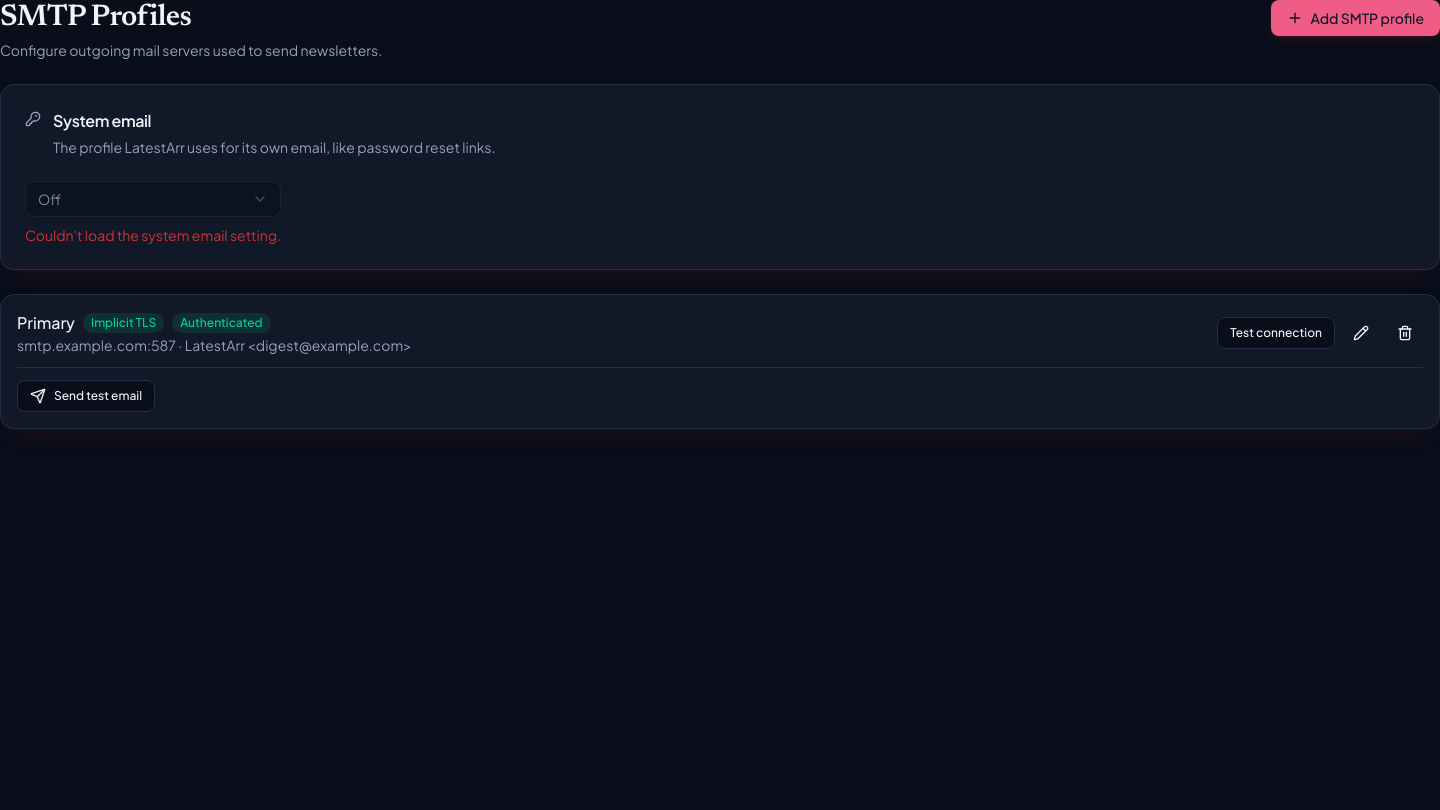
SmtpProfilesPage › edits a profile through the edit dialog, prefilled with its current values
Expected: the text "Primary" is shown, x1=17 y1=311 x2=75 y2=335
Click the button named "Edit Primary" at point(1361, 333), box x1=1343 y1=315 x2=1379 y2=351
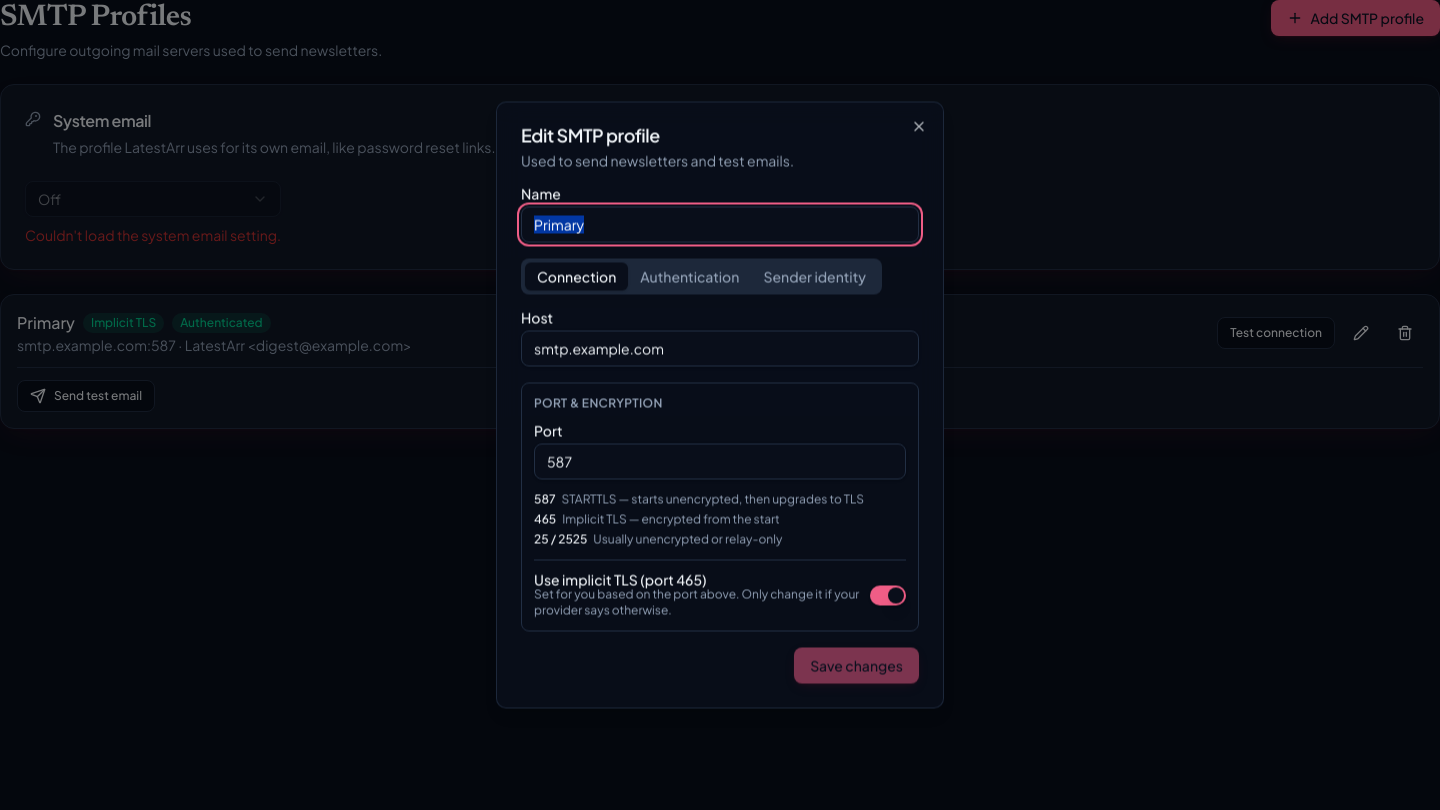
Expected: the field labelled "Name" holds "Primary", x1=521 y1=206 x2=919 y2=242
Expected: the field labelled "Host" holds "smtp.example.com", x1=521 y1=330 x2=919 y2=366
Expected: the number field labelled "Port" holds "587", x1=534 y1=444 x2=906 y2=480
Click the tab "Authentication" at point(690, 276), box x1=628 y1=262 x2=751 y2=290
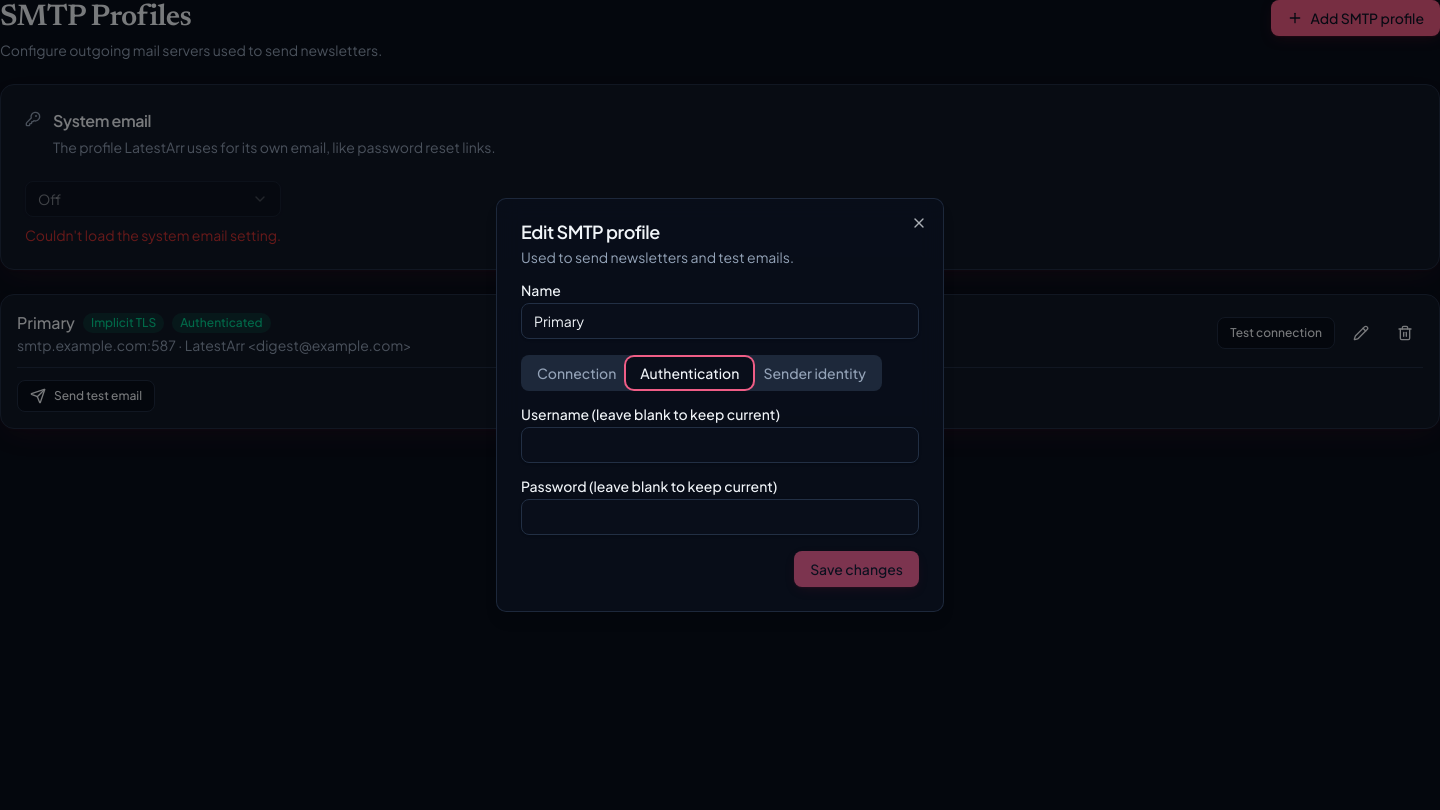
Expected: the field labelled "Username (leave blank to keep current)" is empty, x1=521 y1=427 x2=919 y2=463
Replace the text in the field labelled "Name" with "Backup" at point(720, 321), box x1=521 y1=303 x2=919 y2=339
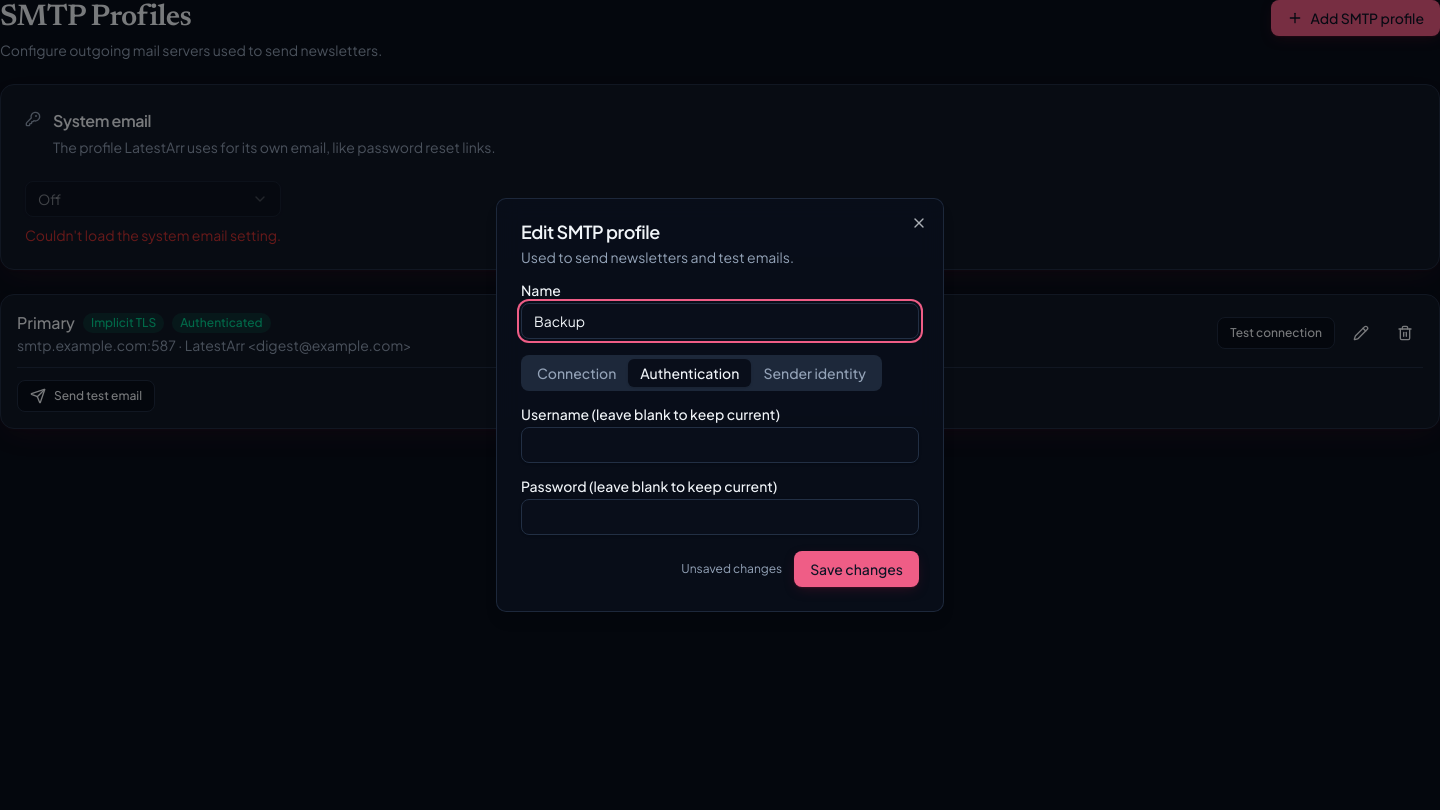
Click the button "Save changes" at point(857, 569), box x1=794 y1=551 x2=919 y2=587
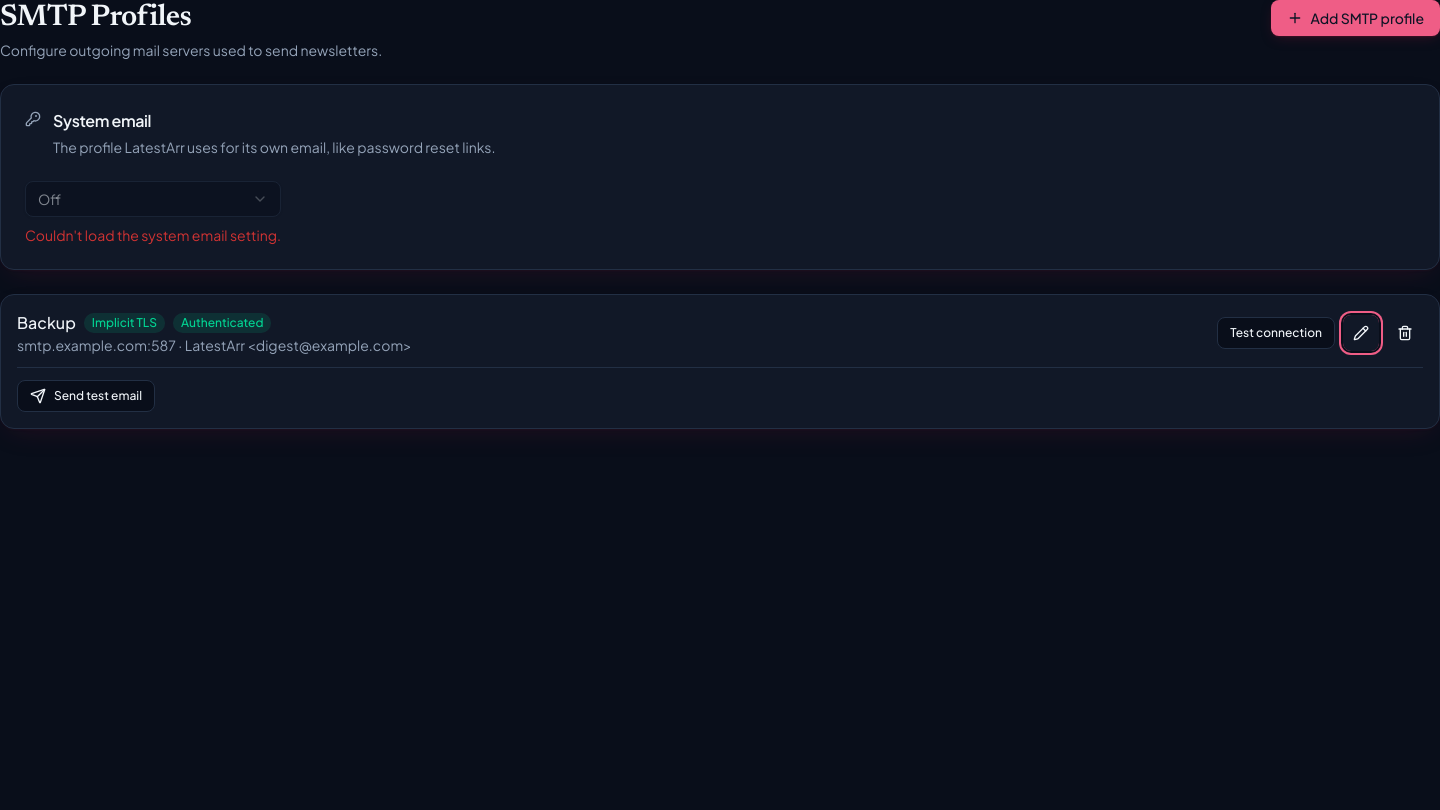
Expected: the dialog is gone
Expected: the text "Backup" is shown, x1=17 y1=311 x2=76 y2=335
